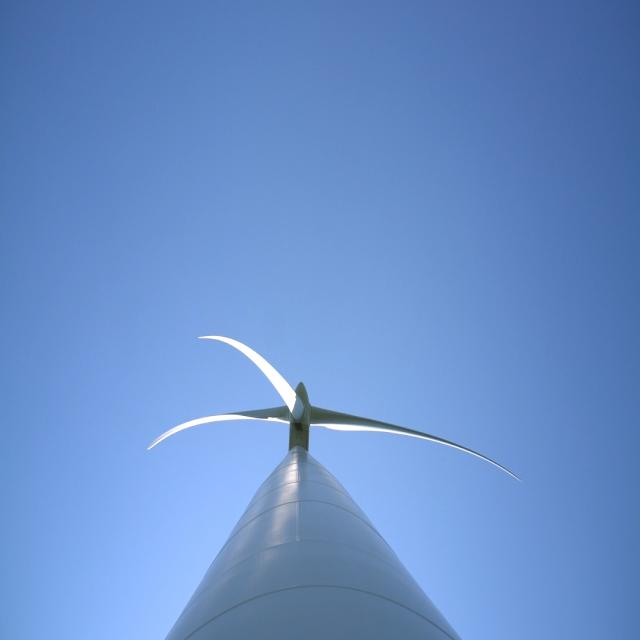blade 1: (128, 397, 277, 474)
blade 2: (198, 308, 280, 372)
blade 3: (350, 384, 542, 485)
